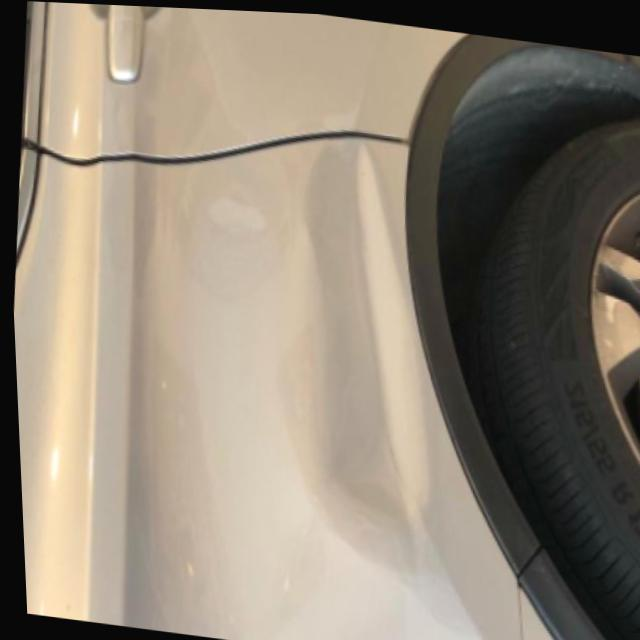Dent: (302, 131, 435, 531)
